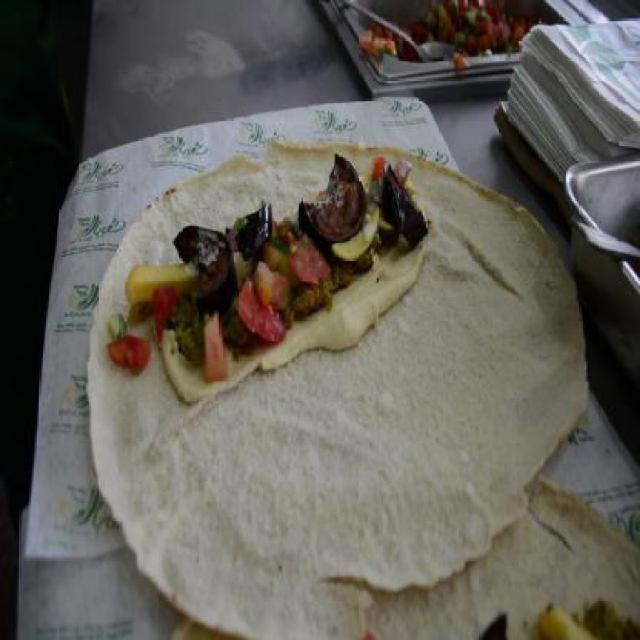eggplant: (172, 162, 414, 330)
falafel: (170, 243, 376, 362)
hummus: (156, 245, 422, 430)
